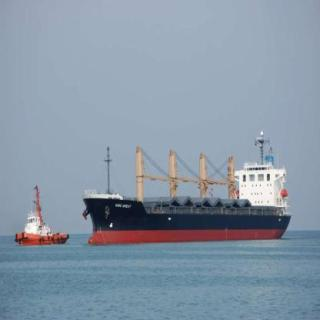Bulk Carrier: (79, 134, 294, 250)
